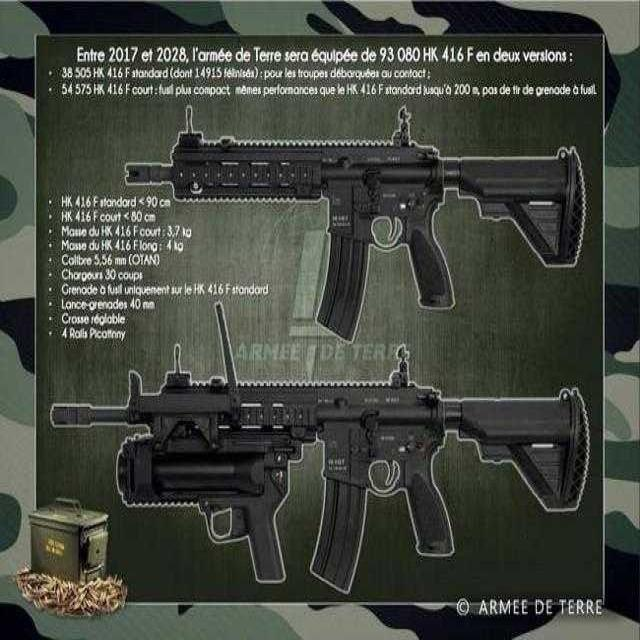weapon: (119, 99, 604, 342)
